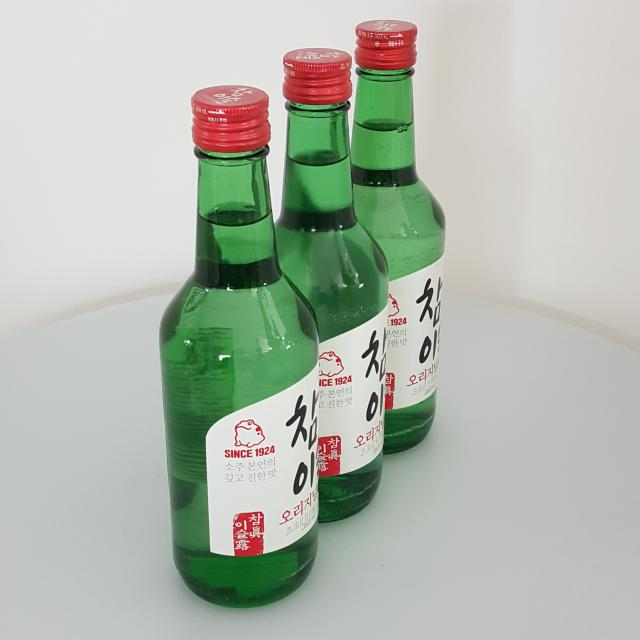soju-bottle: (158, 84, 320, 608), (254, 48, 389, 524), (348, 18, 452, 435)
